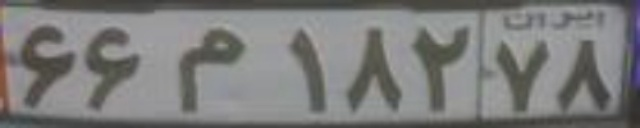1: (287, 28, 329, 112)
2: (410, 24, 471, 112)
6: (81, 25, 143, 111), (19, 24, 75, 111)
7: (496, 39, 551, 111)
8: (346, 26, 402, 114), (554, 38, 614, 111)
mim: (175, 27, 246, 113)
